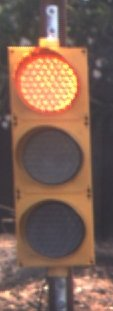Red: (5, 36, 105, 284)
